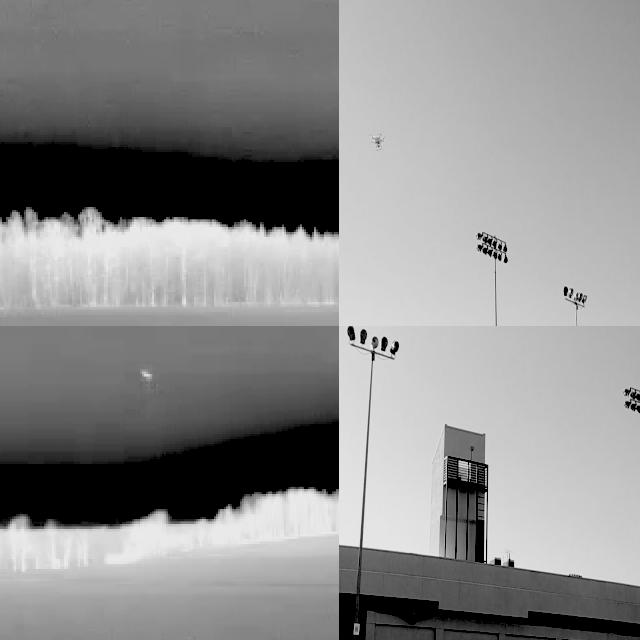1: (128, 359, 166, 401)
drone: (369, 128, 385, 154)
